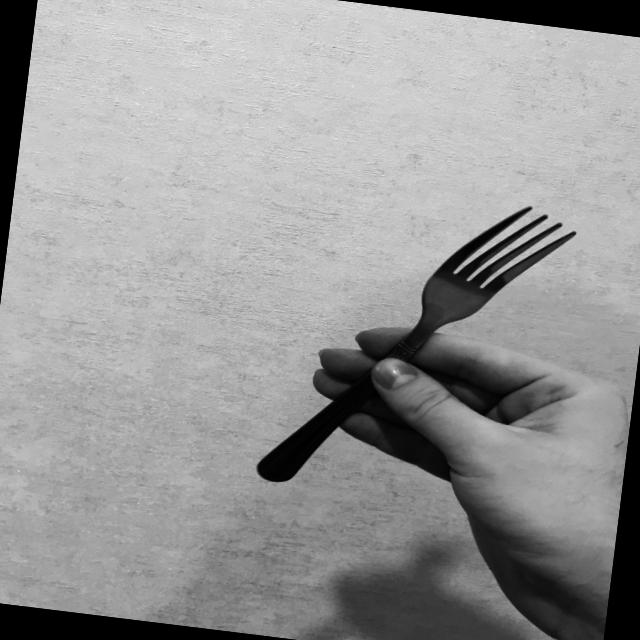fork: (252, 174, 584, 520)
